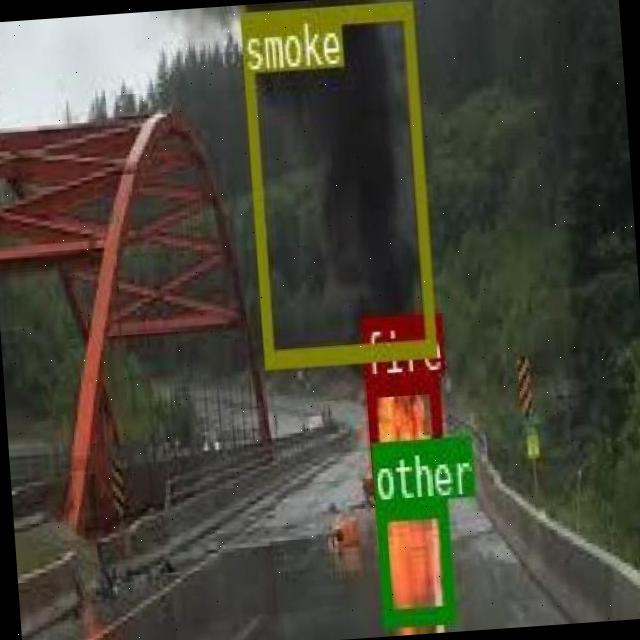fire: (363, 369, 444, 492)
smoke: (238, 0, 435, 367)
